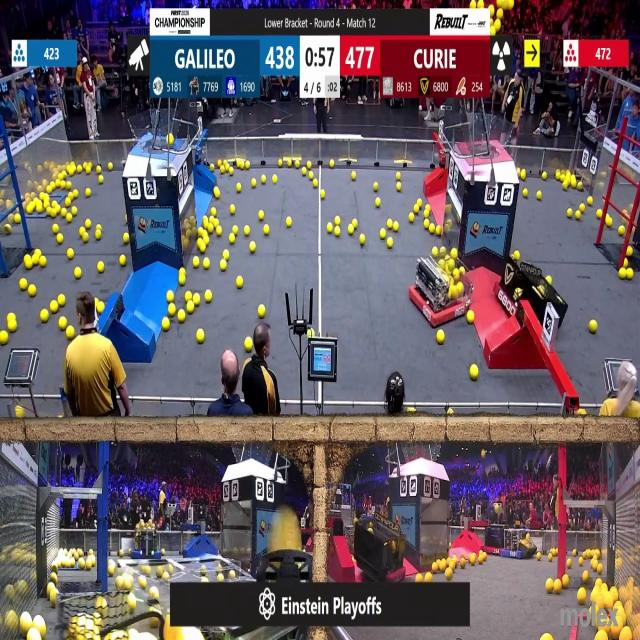ball_airborne: (494, 20, 500, 32), (161, 492, 167, 504), (507, 0, 513, 10), (490, 5, 495, 16), (169, 136, 174, 146), (497, 8, 502, 18), (491, 28, 496, 36)
ball_ground: (7, 314, 17, 332), (576, 589, 586, 605), (50, 586, 58, 605), (0, 332, 9, 346), (257, 305, 265, 319), (469, 364, 477, 378), (245, 338, 253, 352), (545, 580, 553, 594), (125, 578, 133, 592), (40, 310, 49, 322), (438, 332, 446, 345), (198, 331, 206, 344), (130, 597, 138, 610), (14, 408, 23, 419), (555, 580, 562, 594), (115, 575, 122, 589), (466, 312, 474, 324), (74, 268, 82, 280), (186, 303, 194, 315), (49, 302, 57, 314), (139, 576, 147, 588), (590, 320, 597, 333), (67, 326, 74, 339), (26, 258, 33, 271), (562, 575, 569, 588), (620, 269, 628, 280), (60, 318, 68, 329), (18, 279, 26, 290), (446, 568, 454, 579), (440, 247, 448, 258), (164, 318, 171, 330), (178, 310, 185, 322), (237, 277, 244, 289), (169, 305, 176, 317), (205, 290, 212, 302), (425, 571, 433, 581), (36, 203, 44, 213), (142, 564, 150, 574), (98, 263, 105, 274), (627, 269, 634, 280), (59, 294, 66, 305), (29, 285, 36, 296), (98, 303, 105, 314), (480, 553, 487, 564), (108, 565, 115, 576), (203, 216, 210, 227), (68, 248, 74, 260), (119, 254, 125, 266), (192, 256, 198, 268), (168, 290, 174, 302), (43, 201, 49, 213), (431, 562, 437, 574), (570, 176, 576, 188), (220, 262, 227, 272), (203, 260, 210, 270), (213, 187, 220, 197), (200, 243, 207, 253), (49, 208, 56, 218), (5, 224, 12, 234), (452, 248, 458, 259), (40, 256, 46, 267), (250, 242, 256, 253), (265, 224, 271, 235), (193, 293, 199, 304), (605, 216, 611, 227), (584, 570, 590, 581), (592, 560, 598, 571), (627, 247, 634, 256), (27, 205, 34, 214), (209, 216, 216, 225), (387, 238, 393, 248), (381, 230, 387, 240), (244, 225, 250, 235), (620, 225, 626, 235), (286, 217, 292, 227), (58, 235, 64, 245), (179, 275, 185, 285), (434, 225, 440, 235), (359, 236, 365, 246), (515, 250, 521, 260), (348, 224, 354, 234), (251, 178, 257, 188), (520, 170, 526, 180), (222, 250, 228, 260), (231, 205, 237, 215), (326, 222, 332, 232), (51, 223, 57, 233), (387, 219, 393, 229), (231, 235, 237, 245), (201, 564, 207, 574), (66, 180, 72, 190), (210, 208, 217, 216), (34, 248, 41, 256), (596, 633, 604, 640), (195, 240, 202, 248), (123, 234, 128, 245), (258, 210, 263, 221), (82, 234, 88, 243), (185, 291, 191, 300), (596, 210, 602, 219), (233, 225, 239, 234), (541, 634, 550, 640), (352, 219, 358, 228), (13, 214, 19, 223), (87, 187, 93, 196), (61, 208, 67, 217), (562, 181, 568, 190), (556, 172, 562, 181), (200, 226, 206, 235), (567, 208, 572, 218), (417, 572, 422, 582), (336, 228, 341, 238), (578, 411, 585, 418), (96, 232, 102, 240), (218, 574, 224, 582), (67, 214, 73, 222), (566, 560, 572, 568), (87, 220, 93, 228), (574, 212, 580, 220), (208, 224, 214, 232), (307, 163, 313, 171), (299, 168, 305, 176), (414, 206, 420, 214), (61, 180, 67, 188), (596, 577, 602, 585), (410, 213, 415, 222), (376, 199, 381, 208), (393, 221, 398, 230), (336, 216, 341, 225), (216, 226, 221, 235), (536, 190, 541, 199), (320, 189, 325, 198), (73, 189, 78, 198), (228, 166, 233, 175), (546, 276, 551, 285), (372, 186, 378, 193), (308, 329, 314, 336), (260, 176, 266, 183), (541, 173, 547, 180), (96, 223, 102, 230), (546, 555, 552, 562), (88, 169, 94, 176), (293, 163, 299, 170), (27, 633, 33, 640), (432, 248, 437, 256), (589, 198, 594, 206), (237, 183, 242, 191), (424, 219, 428, 229), (624, 259, 629, 267), (448, 410, 453, 418), (536, 554, 541, 562), (66, 200, 71, 208), (243, 160, 248, 168), (210, 165, 215, 173), (576, 182, 581, 190), (314, 179, 318, 188), (202, 576, 208, 582), (99, 176, 104, 183), (273, 176, 278, 183), (108, 164, 113, 171), (72, 208, 77, 215), (578, 559, 583, 566), (579, 205, 584, 212), (287, 162, 292, 169), (51, 201, 56, 208), (79, 226, 84, 233), (417, 200, 422, 207), (396, 182, 400, 190), (524, 188, 528, 196), (396, 172, 400, 180), (329, 161, 333, 169), (352, 172, 356, 180), (98, 167, 102, 175), (572, 550, 576, 558), (308, 170, 312, 178), (424, 211, 428, 218), (220, 168, 224, 175), (278, 160, 282, 167), (162, 550, 166, 557), (119, 552, 123, 558)
goal: (460, 118, 518, 158), (128, 116, 187, 152)
robot_blue: (130, 519, 163, 562), (501, 527, 536, 558)
robot_red: (499, 257, 564, 326), (414, 251, 471, 326), (349, 516, 404, 585), (482, 524, 503, 554)
